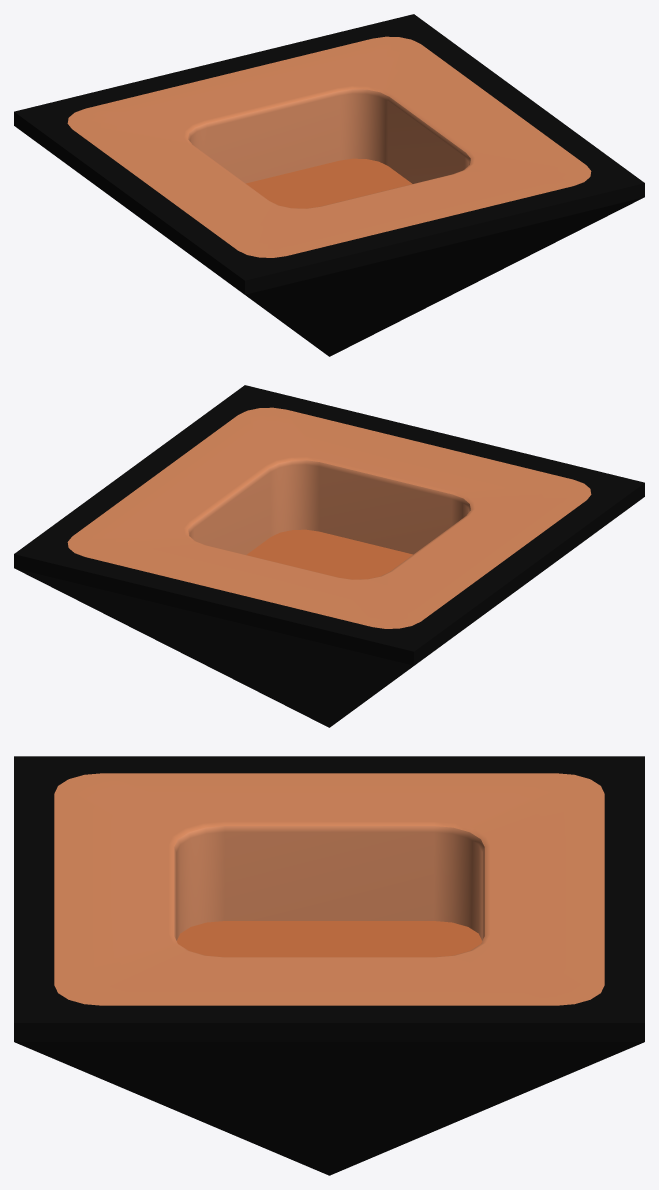
The model's file is Cell Orange.fbx.
The picture shows the model from 3 angles, top to bottom: view 1: azimuth 30°, elevation 25°; view 2: azimuth 150°, elevation 25°; view 3: azimuth 270°, elevation 25°; orthographic projection. The views are drawn at different scales.
Visible parts, largest first — view 1: Cell_Orange; view 2: Cell_Orange; view 3: Cell_Orange.
Part boxes in pixels (box(x1,y1,x2,y2)): Cell_Orange: box(14, 14, 644, 356); Cell_Orange: box(14, 385, 644, 727); Cell_Orange: box(14, 756, 644, 1175).
Bounding box in the file's own units: 100 × 50.06 × 100.
